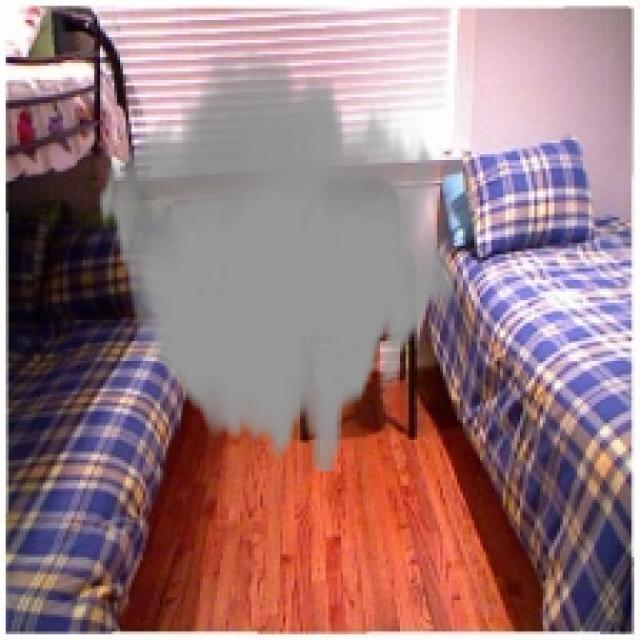smoke: (97, 51, 457, 472)
